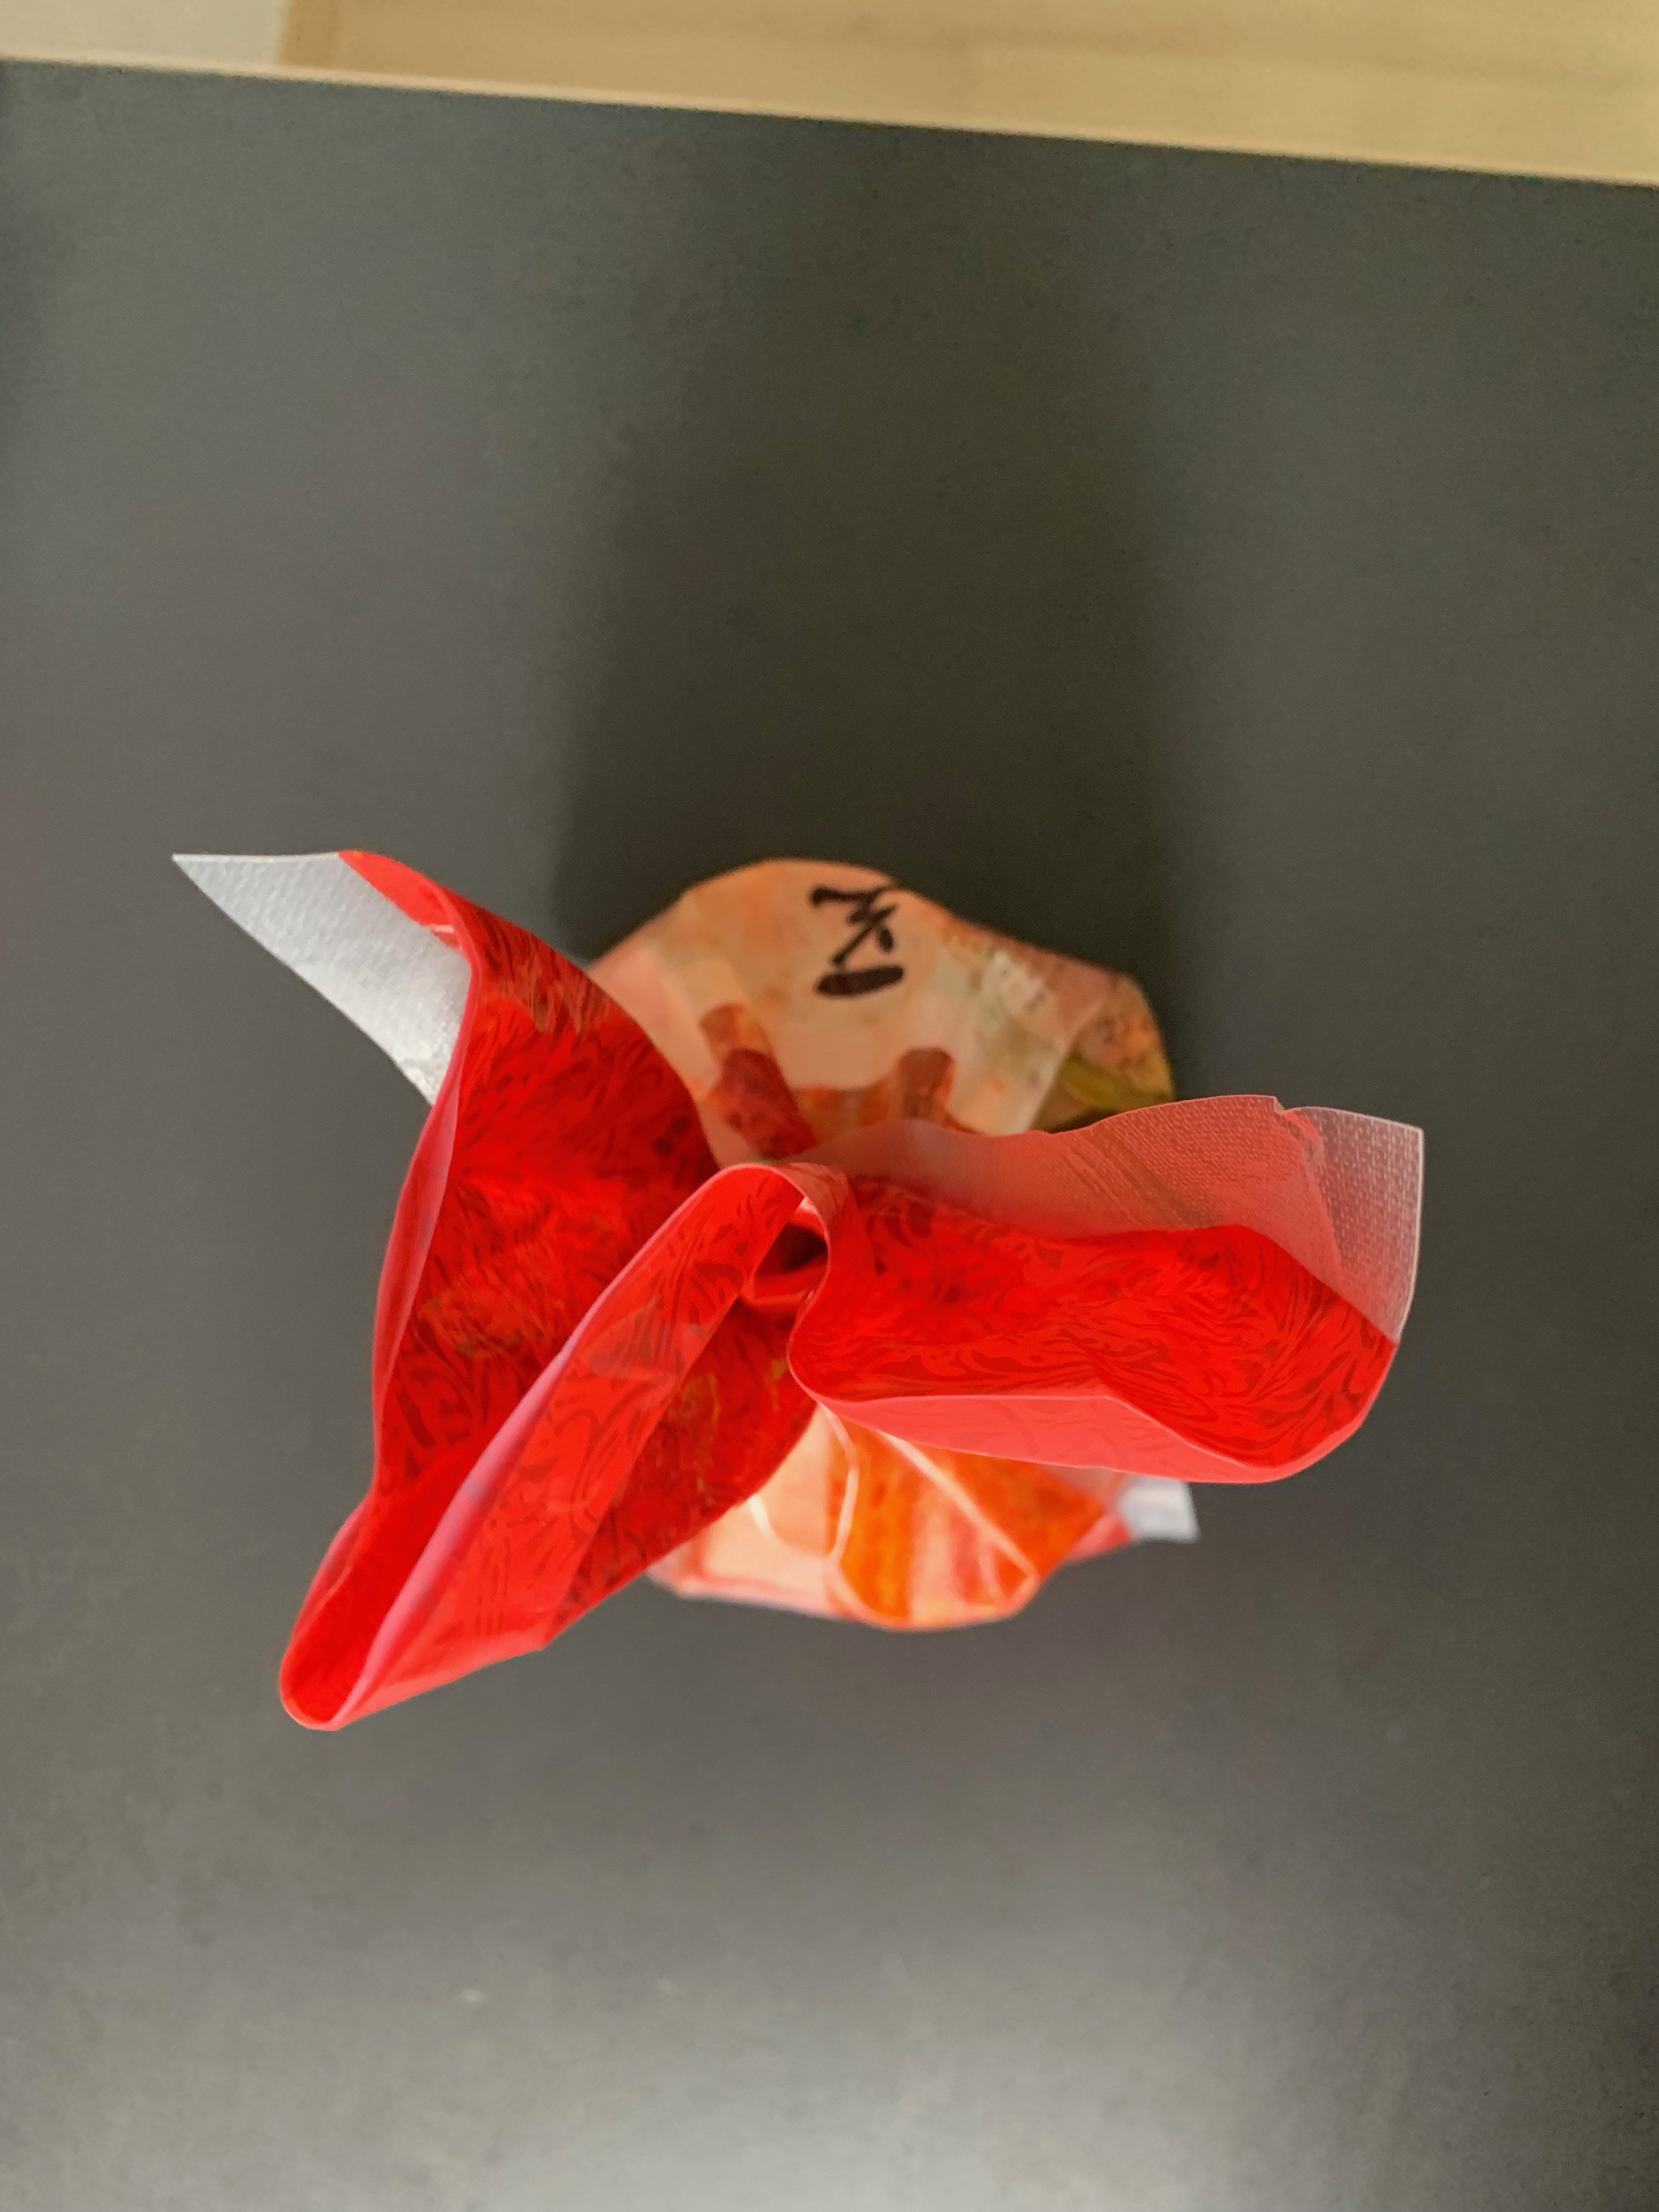kimchi: (279, 862, 1394, 1730)
